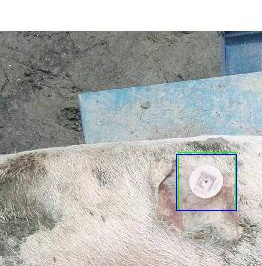text: (178, 152, 235, 210)
